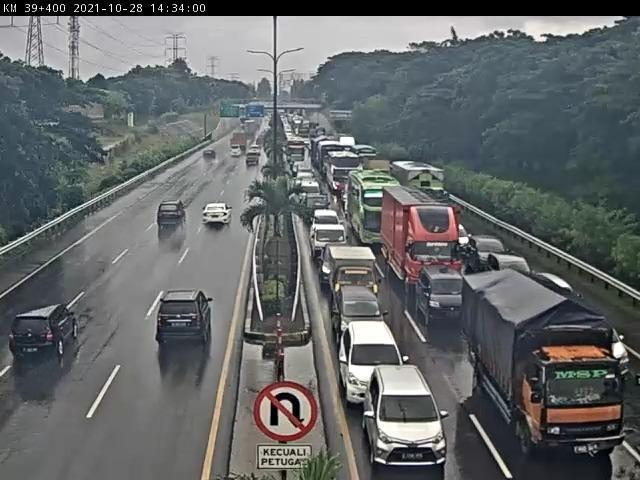bus: (349, 172, 402, 248), (323, 152, 363, 194)
car: (361, 368, 450, 468), (336, 323, 411, 405), (568, 306, 632, 381), (10, 307, 81, 360), (152, 289, 214, 349), (417, 263, 473, 329), (323, 247, 385, 305), (328, 287, 390, 344), (311, 223, 352, 265), (467, 236, 509, 271), (488, 254, 531, 282), (299, 195, 331, 225), (158, 200, 185, 231), (203, 203, 232, 229), (448, 222, 471, 253), (297, 179, 321, 200), (313, 209, 341, 227), (243, 156, 259, 175), (199, 150, 216, 166), (295, 168, 313, 183), (228, 146, 243, 162)
truck: (469, 273, 622, 450), (382, 186, 461, 296)
